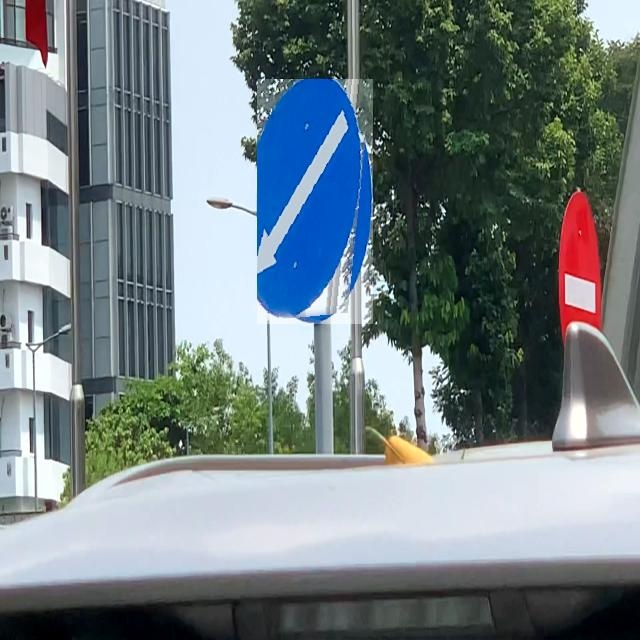bien_cam: (257, 79, 373, 324)
